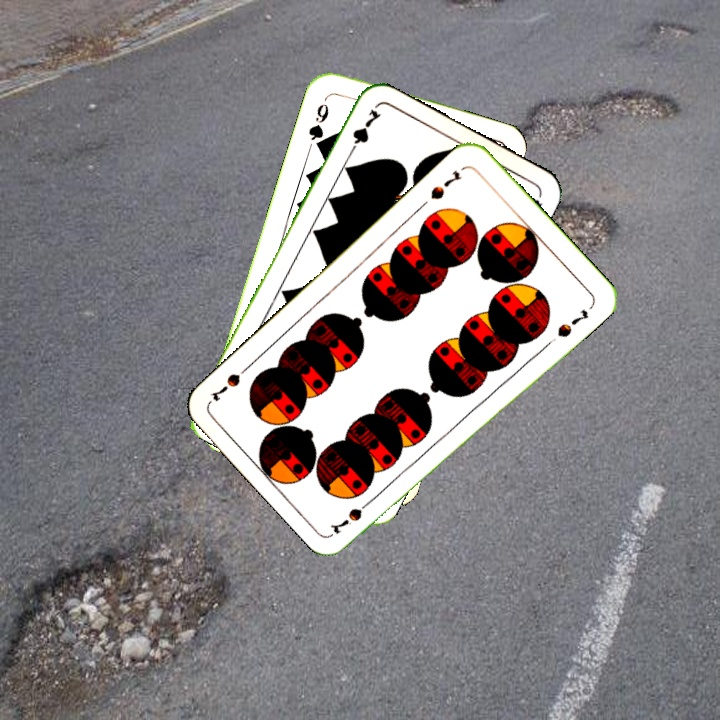G7: (343, 105, 383, 159)
G9: (304, 92, 332, 152)
S7: (329, 492, 379, 537), (426, 165, 465, 202)
